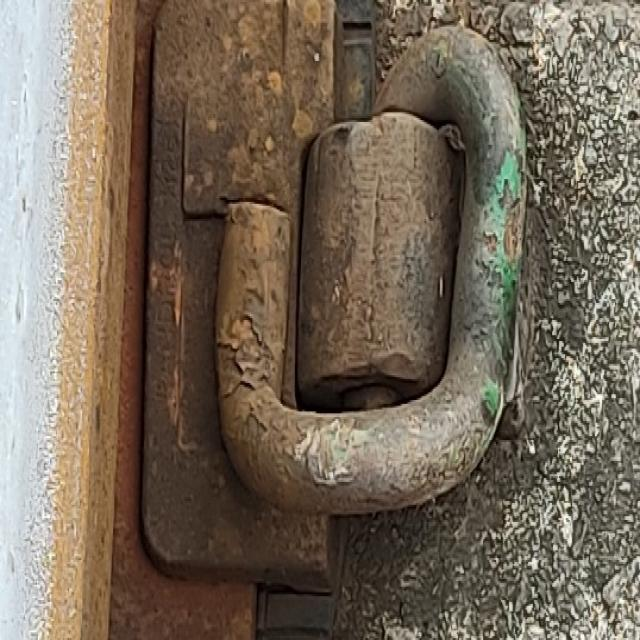track_bolt: (208, 14, 530, 527)
